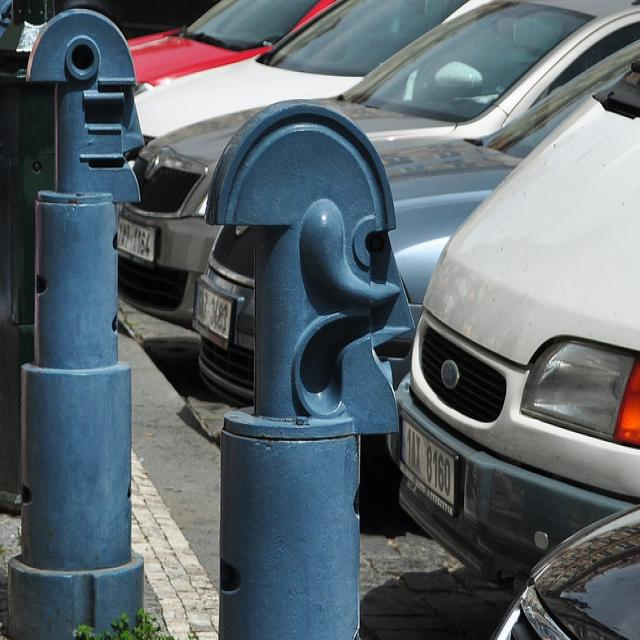Vehicle: (196, 35, 640, 400), (130, 0, 638, 302), (397, 52, 640, 584), (126, 2, 477, 175), (126, 0, 336, 84), (499, 509, 640, 634)
